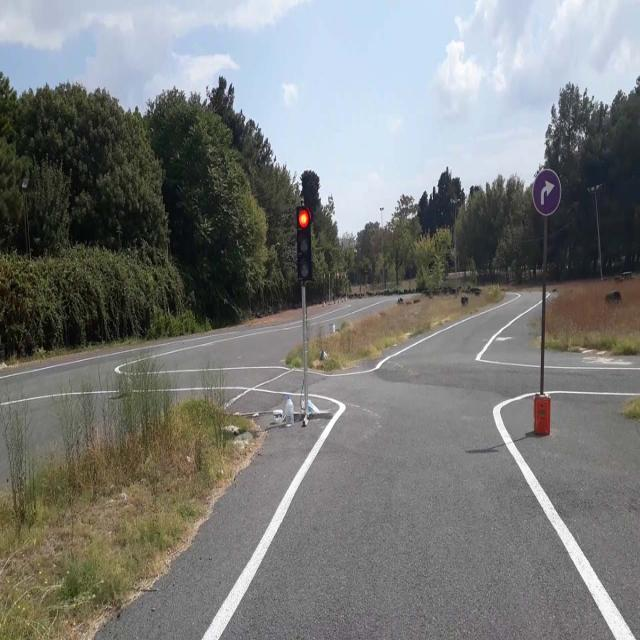kirmizi: (297, 204, 311, 282)
sag: (532, 170, 561, 214)
